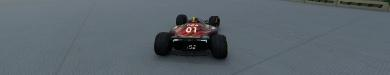Car: (153, 14, 227, 58)
obstacles-Borders: (278, 0, 389, 12)
